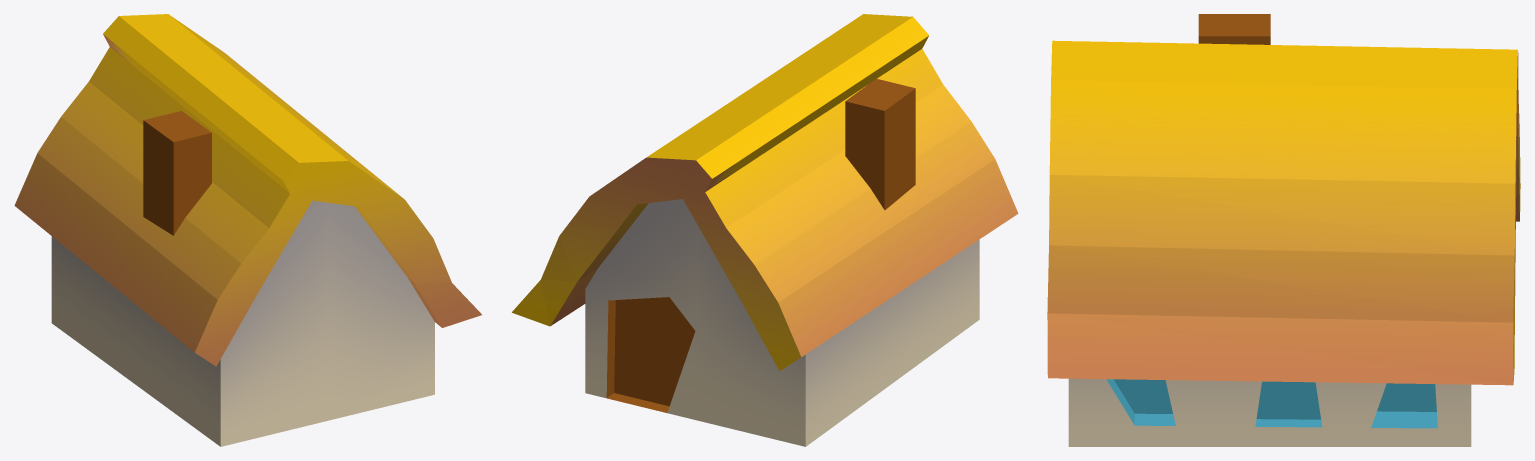
The model's file is haus3.fbx.
3 renders of one model, left to right at view 1: azimuth 30°, elevation 25°; view 2: azimuth 150°, elevation 25°; view 3: azimuth 270°, elevation 25°, orthographic. The views are drawn at different scales.
Parts seen in each view (by area): view 1: haus_3_1; view 2: haus_3_1; view 3: haus_3_1.
Boxes of the visible parts, box(x1,y1,x2,y2) form: haus_3_1: box(14, 14, 481, 446); haus_3_1: box(512, 14, 1018, 446); haus_3_1: box(1047, 14, 1520, 446).
Size of the model in its own units: 1149 by 994 by 1318.
